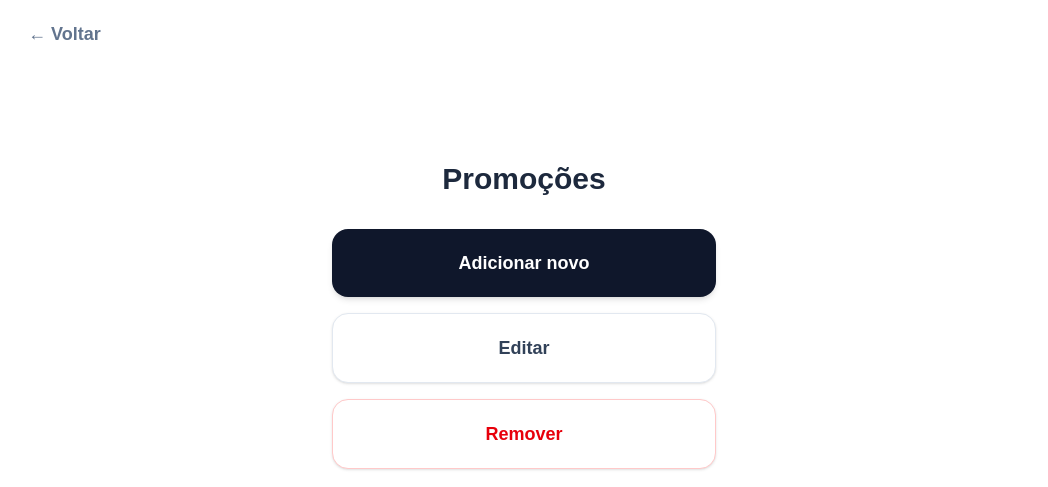
it: PromocaoHub › só lista promoções de 1 produto para remoção
Click the button "Remover".
click(524, 434)  # box [332,399,716,469]
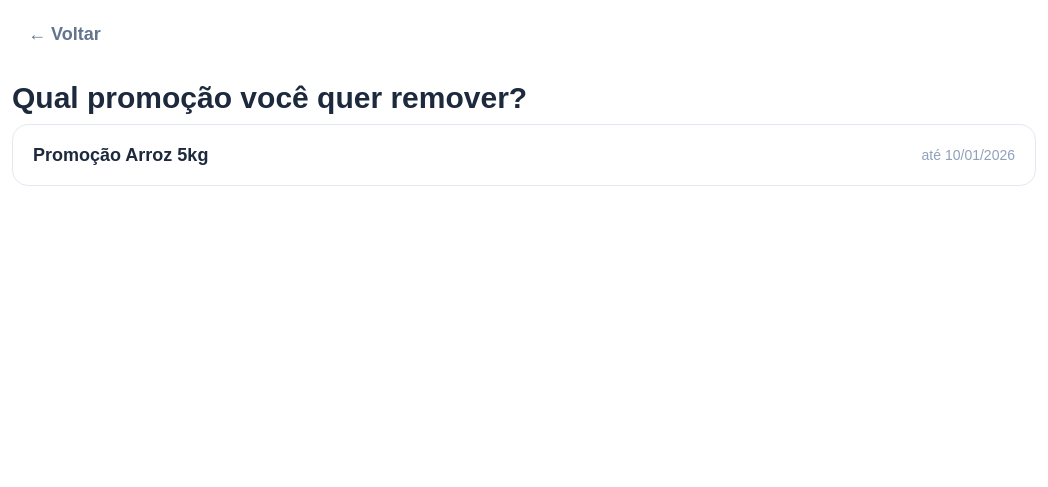
Expected: the text "Promoção Arroz 5kg" is shown, [33,141,208,169]
